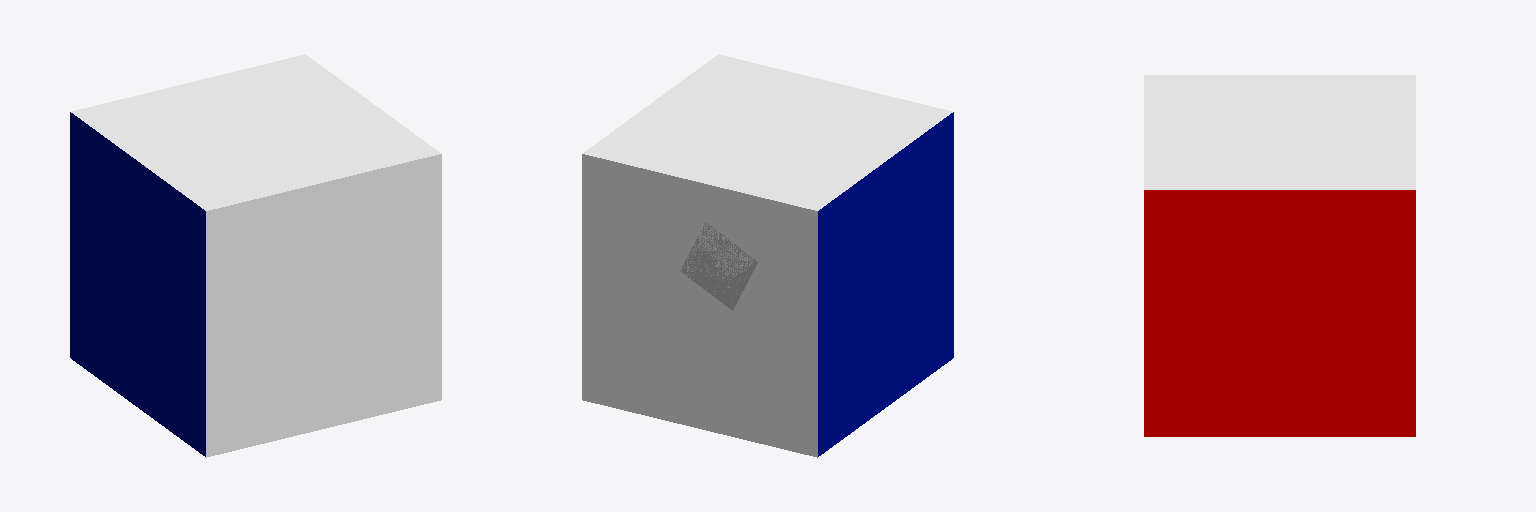
File: scene_basic.obj
3 renders of one model, left to right at view 1: azimuth 30°, elevation 25°; view 2: azimuth 150°, elevation 25°; view 3: azimuth 270°, elevation 25°, orthographic.
Visible parts, largest first — view 1: Cube; view 2: Cube; view 3: Cube.
Part boxes in pixels (x1,y1,x2,y2): Cube: (70,54,441,457); Cube: (582,54,953,457); Cube: (1144,75,1415,436).
Size of the model in its own units: 4 by 4 by 4.